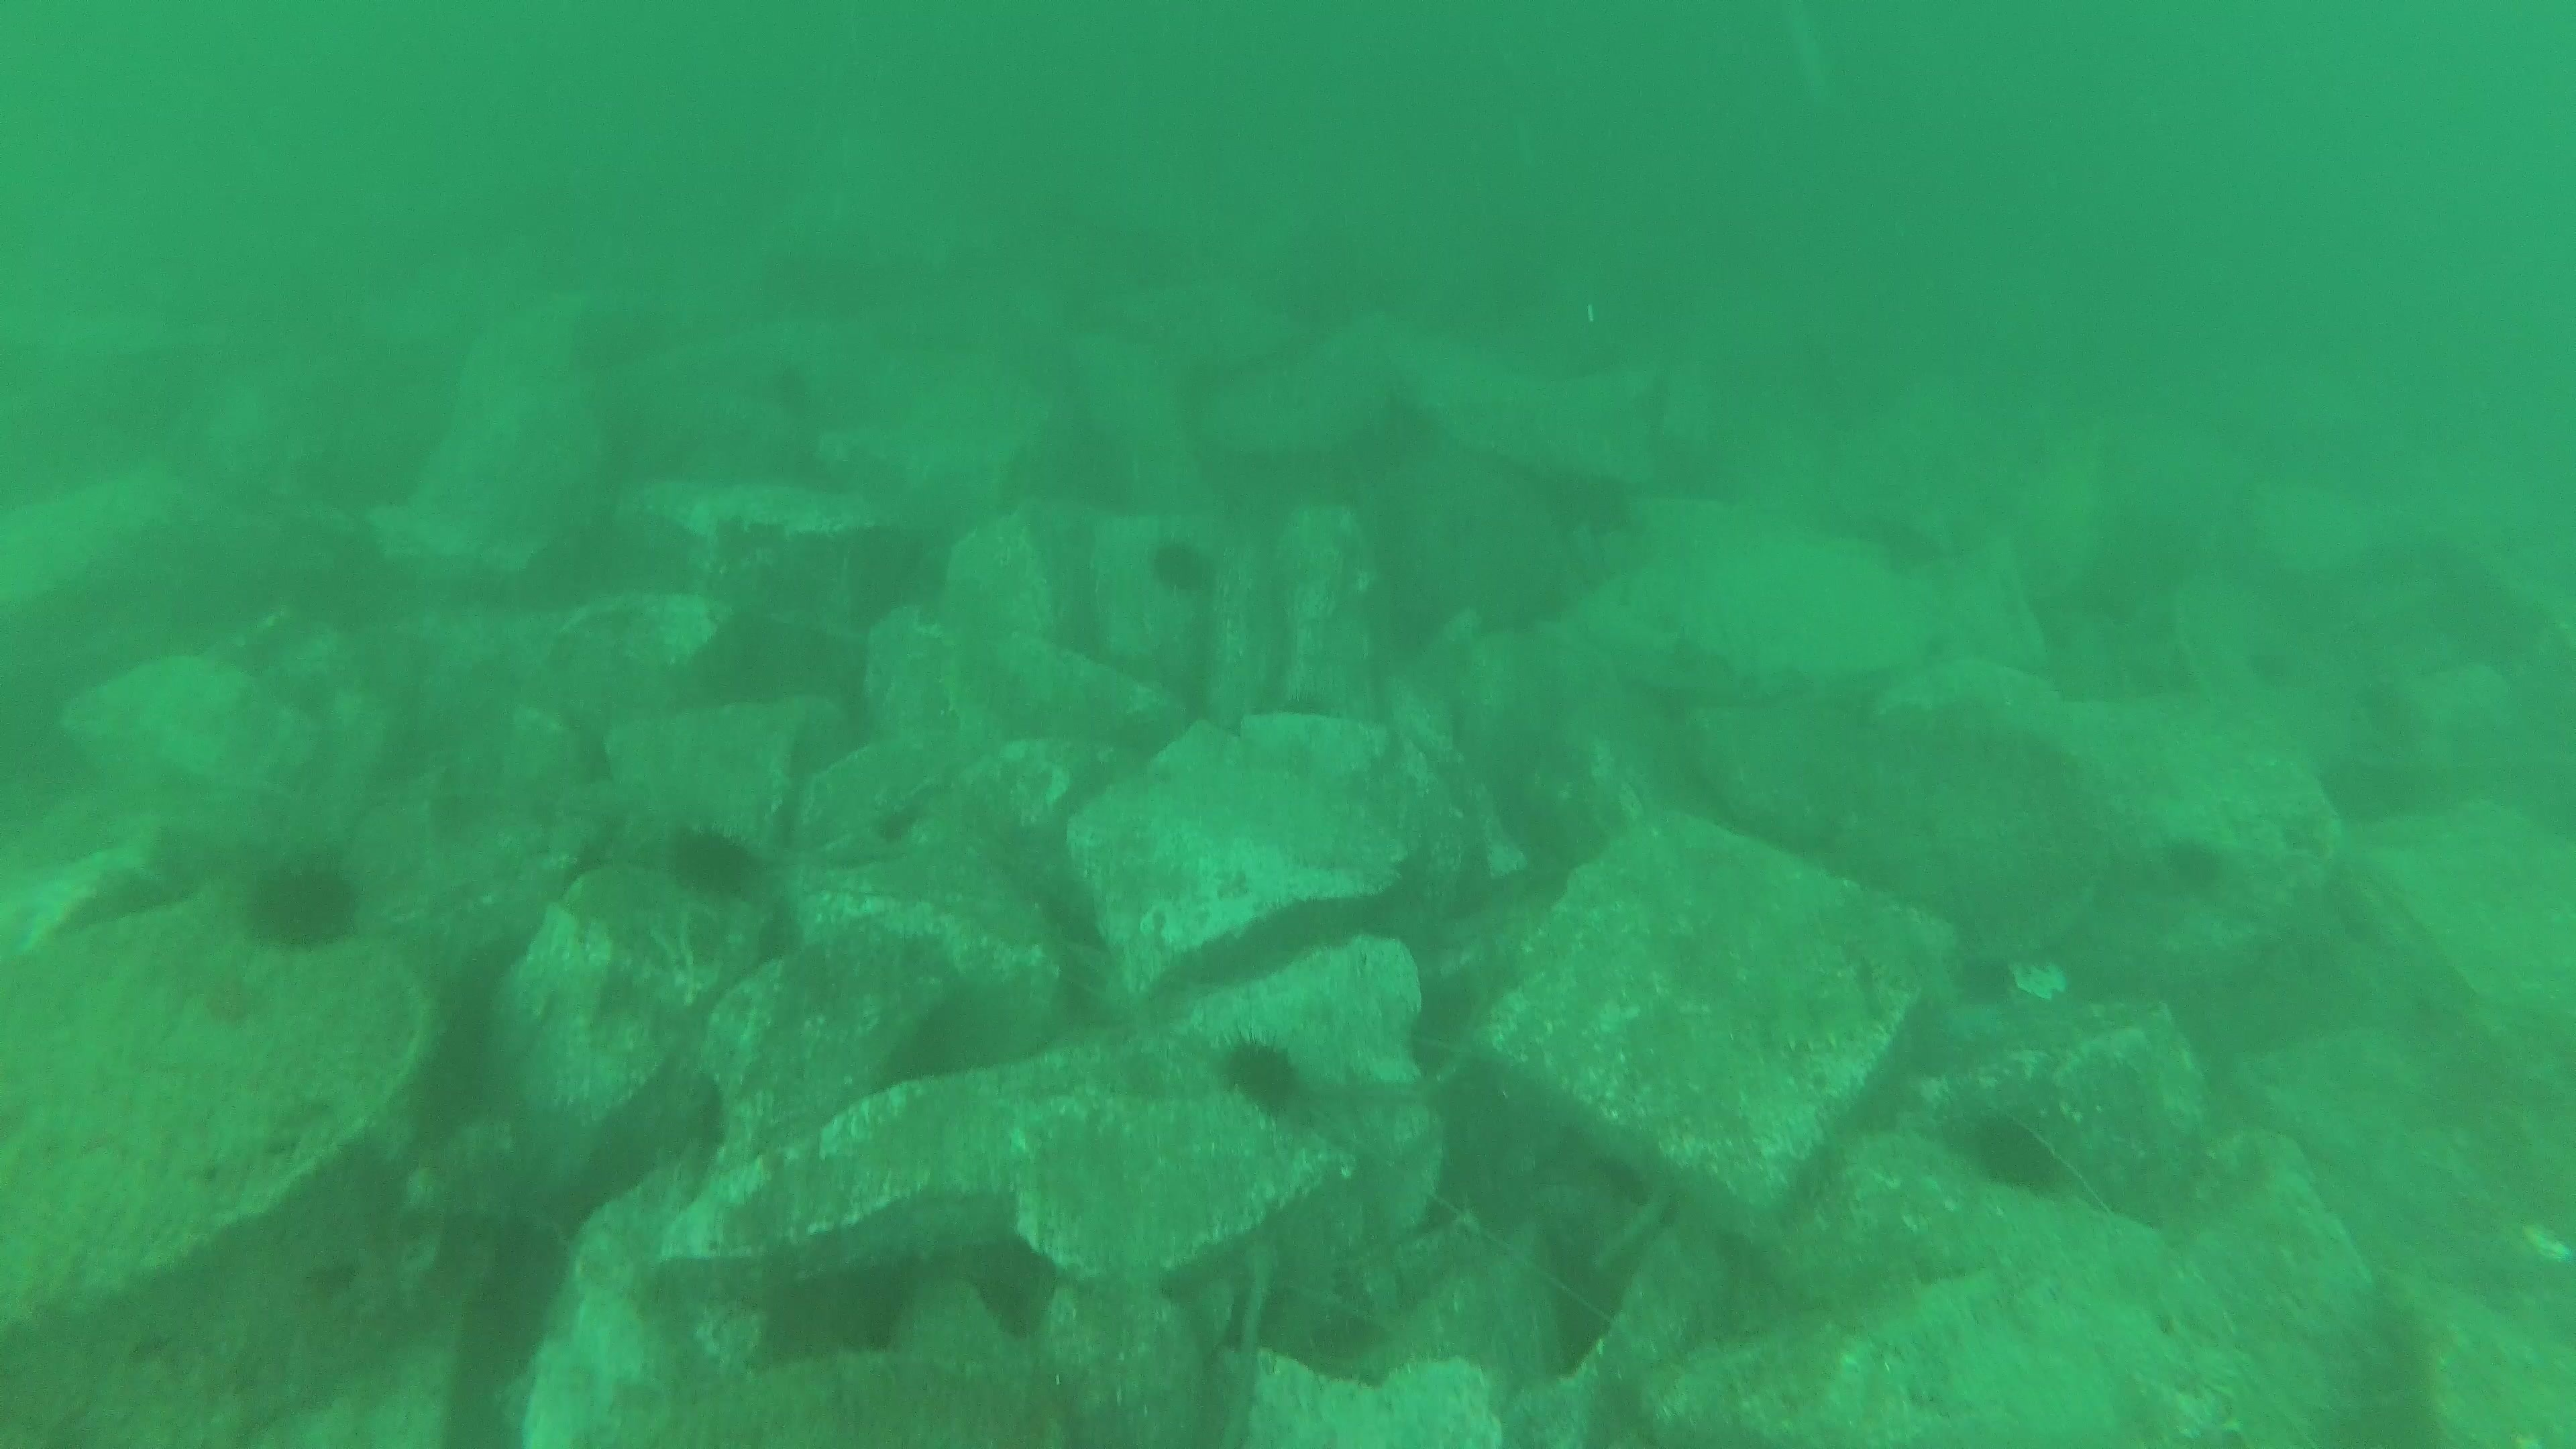echinus: (239, 849, 366, 955), (1960, 1106, 2068, 1200), (1214, 1028, 1315, 1123), (662, 817, 766, 908), (2153, 828, 2233, 904), (1143, 529, 1223, 603)
